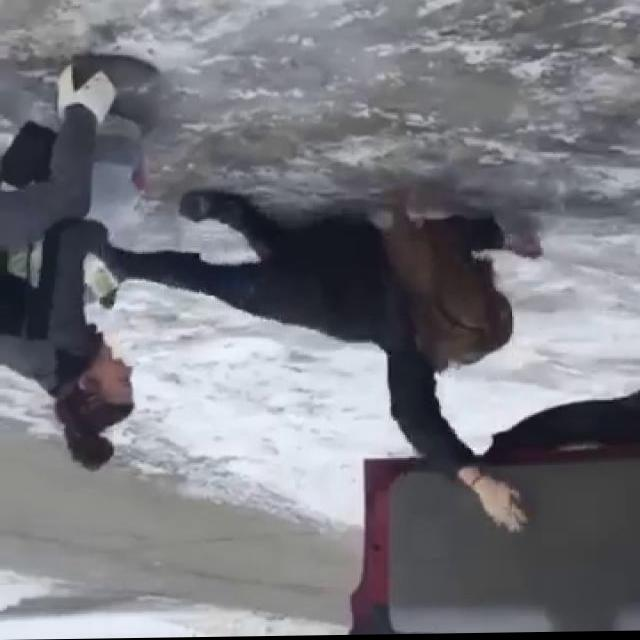fall: (128, 173, 551, 551)
